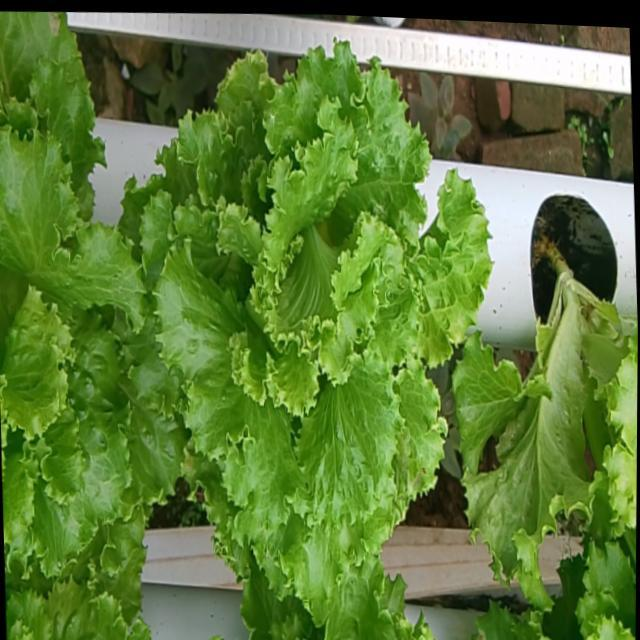Mature: (149, 25, 499, 588), (0, 101, 190, 565)
